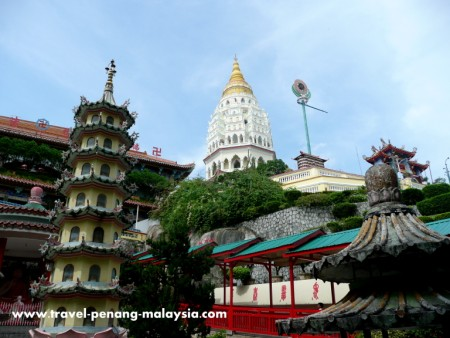Buddhist Temple: (50, 55, 421, 329)
